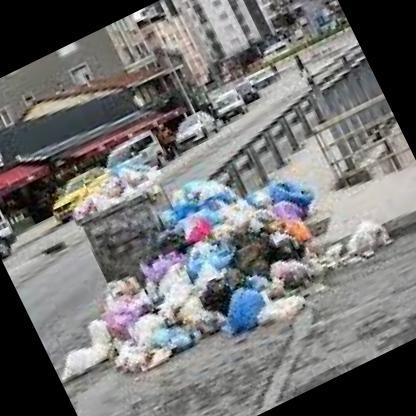Garbage: (163, 155, 344, 346), (162, 168, 300, 349), (98, 252, 225, 380), (75, 156, 163, 218), (53, 318, 133, 385)
